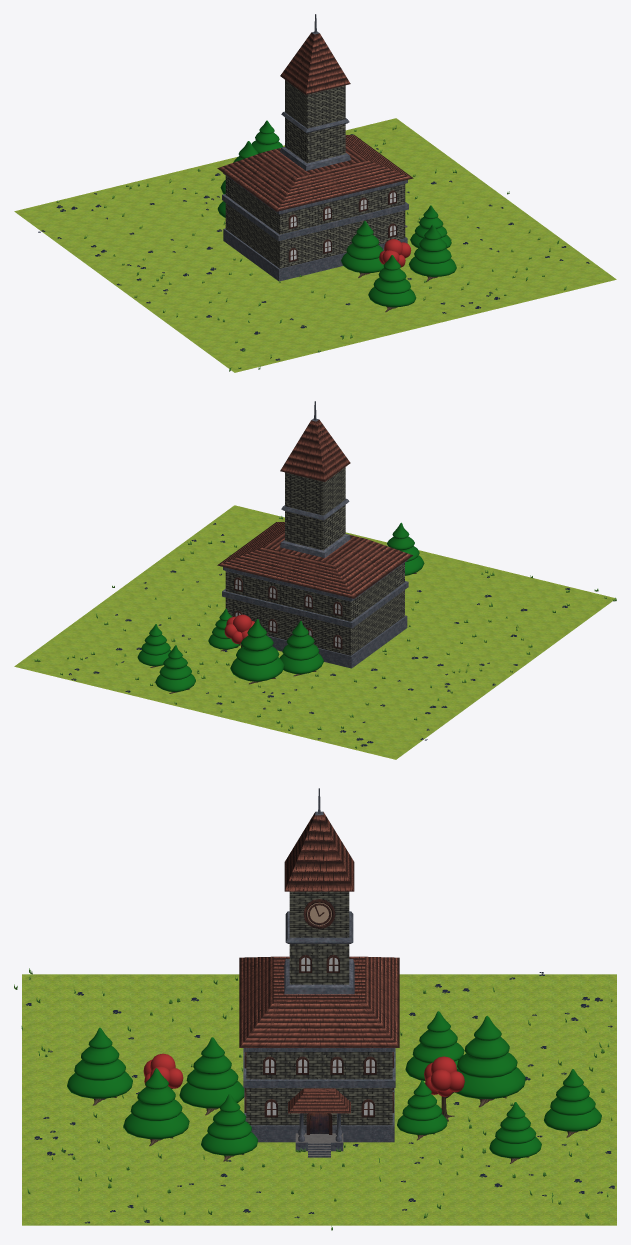
The model's file is castle2.gltf.
The picture shows the model from 3 angles, top to bottom: view 1: azimuth 30°, elevation 25°; view 2: azimuth 150°, elevation 25°; view 3: azimuth 270°, elevation 25°; orthographic projection. The views are drawn at different scales.
Parts seen in each view (by area): view 1: Plane.001, Cube, Tree2.001, Tree2.006, Tree2.009, Tree2.004, Tree2.008, Tree.001; view 2: Plane.001, Cube, Tree2.007, Tree2.003, Tree2.008, Tree2.002, Tree2.006, Tree.006, Tree2.005; view 3: Plane.001, Cube, Tree2.007, Tree2.001, Tree2.006, Tree2.009, Tree2.008, Tree2.004, Tree2.003, Tree2.002, Tree2.005, Plane (+3 smaller).
Boxes of the visible parts, x1,y1,x2,y2 form: Plane.001: (14, 118, 616, 372); Cube: (217, 14, 413, 281); Tree2.001: (408, 224, 456, 281); Tree2.006: (368, 255, 416, 312); Tree2.009: (341, 221, 383, 277); Tree2.004: (410, 205, 451, 248); Tree2.008: (251, 120, 282, 153); Tree.001: (379, 239, 411, 267); Plane.001: (14, 505, 615, 759); Cube: (217, 401, 413, 668); Tree2.007: (230, 619, 284, 684); Tree2.003: (280, 621, 323, 676); Tree2.008: (155, 645, 195, 693); Tree2.002: (137, 624, 170, 667); Tree2.006: (387, 522, 424, 575); Tree.006: (224, 614, 254, 647); Tree2.005: (208, 608, 240, 651); Plane.001: (22, 974, 616, 1225); Cube: (239, 788, 399, 1142); Tree2.007: (454, 1016, 525, 1107); Tree2.001: (123, 1068, 189, 1146); Tree2.006: (67, 1027, 132, 1105); Tree2.009: (179, 1037, 244, 1115); Tree2.008: (544, 1069, 601, 1137); Tree2.004: (201, 1094, 258, 1161); Tree2.003: (405, 1011, 464, 1080); Tree2.002: (489, 1102, 541, 1163); Tree2.005: (397, 1080, 447, 1140); Plane: (288, 1088, 350, 1113).
Size of the model in its own units: 50.2 by 28.32 by 49.45.
15 materials, 9 textured.
